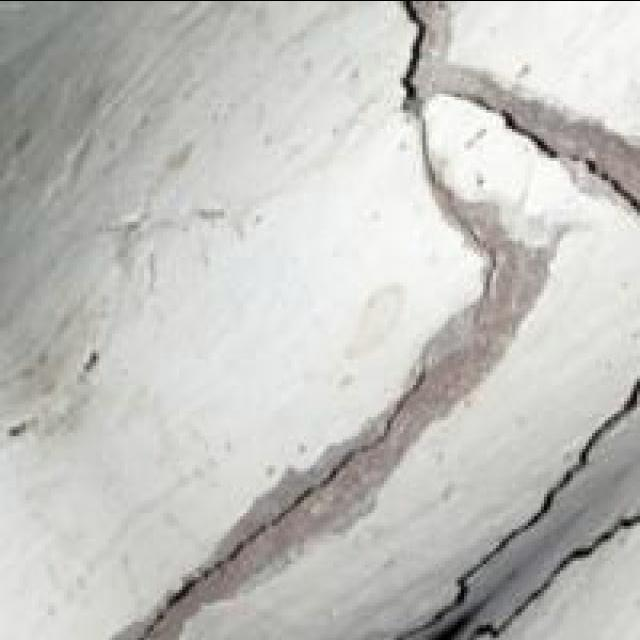SurfaceCrack: (72, 356, 438, 640), (380, 322, 640, 640), (354, 16, 640, 264)
